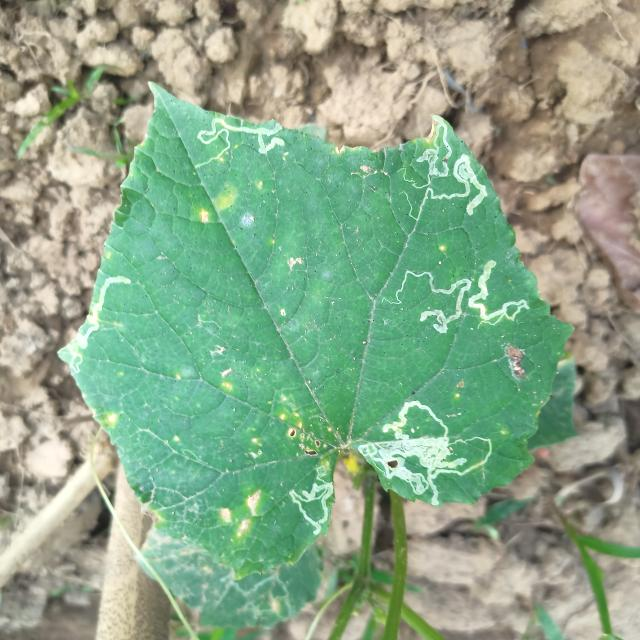disease_cucumber: (214, 486, 266, 534), (278, 408, 322, 461), (196, 187, 237, 225)
